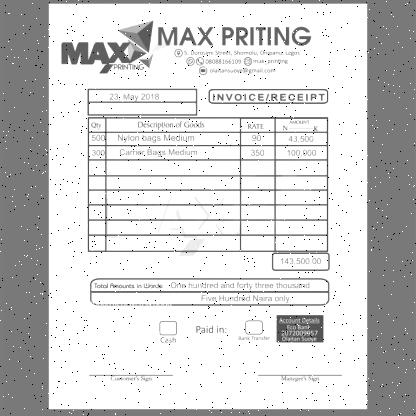Paragraph: (157, 26, 312, 76), (92, 280, 311, 306), (212, 92, 326, 103), (278, 317, 321, 343), (108, 92, 160, 102), (280, 258, 322, 266), (195, 324, 227, 334), (238, 335, 271, 341), (160, 336, 177, 343)
Table: (88, 117, 328, 251)
